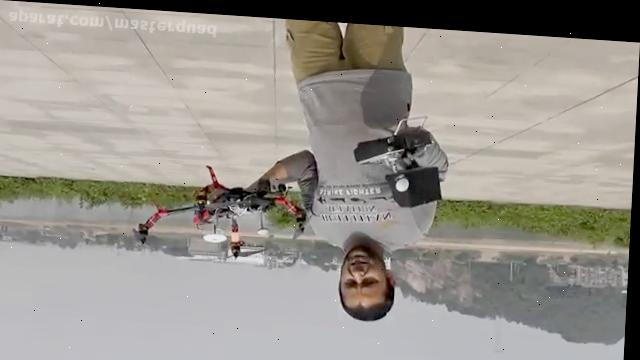drone: (125, 155, 315, 265)
